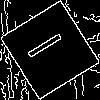I: (25, 25, 72, 61)
